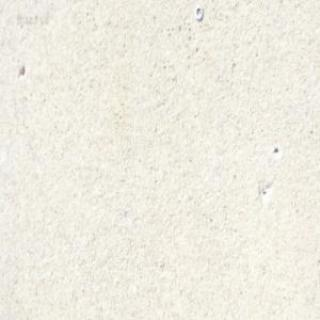Washertrack_idkeyframe: (194, 4, 202, 20)
